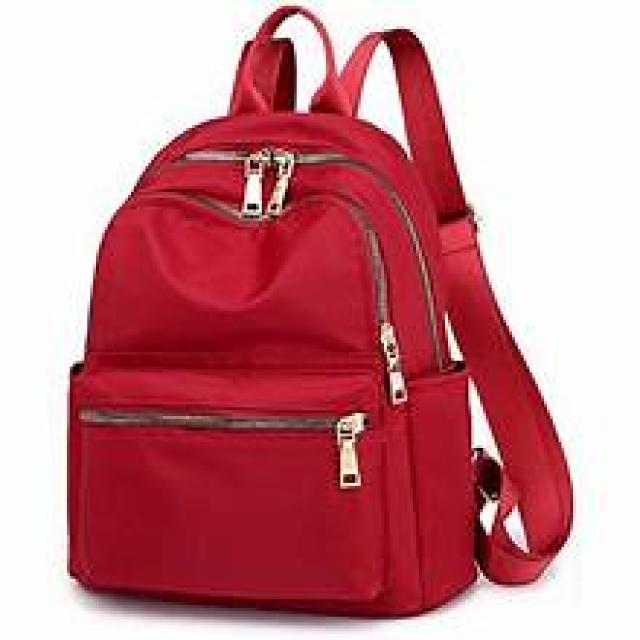backpack: (65, 4, 574, 618)
